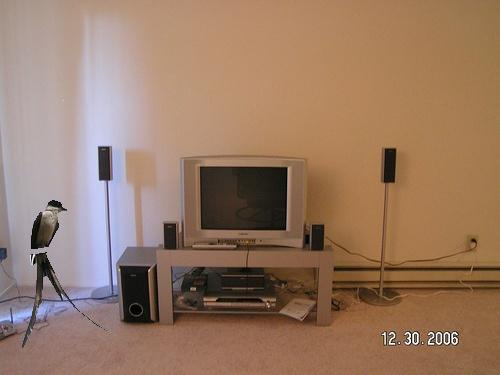tampered: (23, 101, 120, 348)
